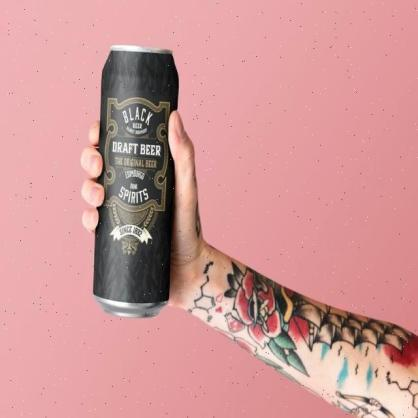can: (92, 38, 178, 328)
